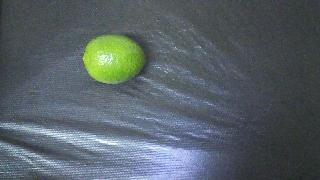LOCAL: (82, 35, 146, 84)
